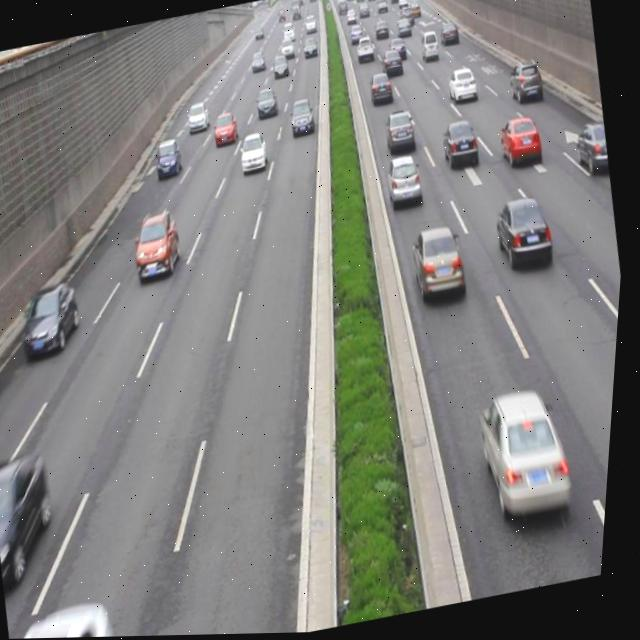car: (475, 383, 584, 527), (0, 448, 75, 593), (18, 278, 91, 363), (491, 193, 560, 276), (408, 225, 472, 305), (14, 598, 129, 639), (130, 206, 190, 283), (494, 114, 546, 175), (570, 120, 615, 182), (438, 117, 484, 176), (384, 153, 427, 206), (505, 57, 546, 109), (382, 108, 419, 157), (235, 131, 273, 177), (445, 66, 480, 107), (153, 138, 186, 180), (288, 97, 319, 138), (211, 111, 242, 150), (253, 85, 282, 123), (366, 72, 395, 108), (185, 101, 214, 135)
